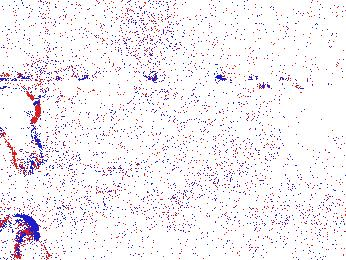flame jellyfish: (1, 82, 46, 177), (180, 194, 234, 246), (1, 214, 52, 260)
